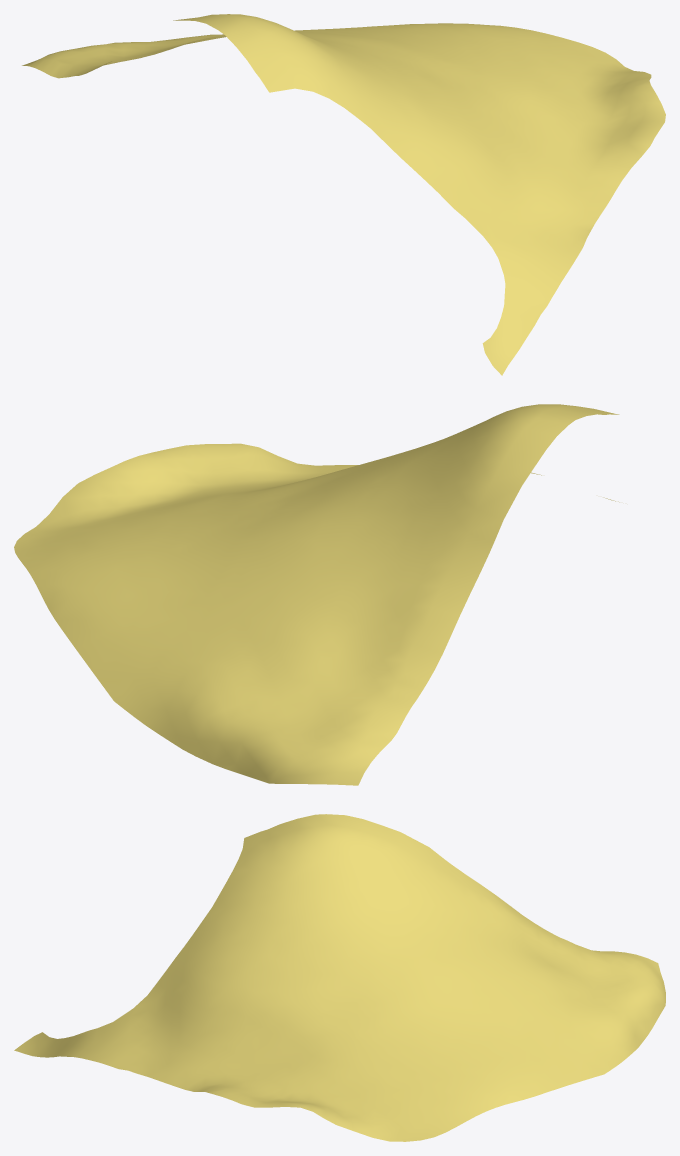
The model's file is tentorium-cerebelli-l.glb.
3 views of the same model, one above another, from view 1: azimuth 30°, elevation 25°; view 2: azimuth 150°, elevation 25°; view 3: azimuth 270°, elevation 25° (orthographic). The views are drawn at different scales.
Parts seen in each view (by area): view 1: Tentorium cerebelli.l; view 2: Tentorium cerebelli.l; view 3: Tentorium cerebelli.l.
Boxes of the visible parts, bbox=[...] form: Tentorium cerebelli.l: bbox=[22, 14, 665, 375]; Tentorium cerebelli.l: bbox=[14, 404, 619, 785]; Tentorium cerebelli.l: bbox=[14, 814, 665, 1141].
Bounding box in the file's own units: 0.0609 × 0.0301 × 0.0905.
